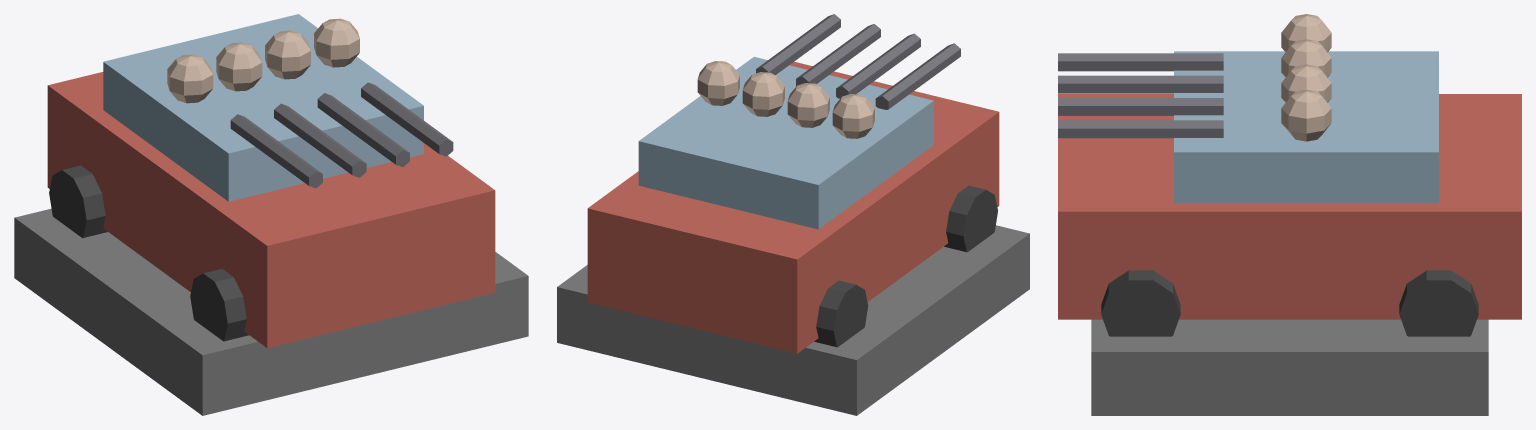
Rendered from human_monster_truck.glb.
The picture shows the model from 3 angles, left to right: view 1: azimuth 30°, elevation 25°; view 2: azimuth 150°, elevation 25°; view 3: azimuth 270°, elevation 25°; orthographic projection. The views are drawn at different scales.
Visible parts, largest first — view 1: TurretMesh, Base, GunsMesh; view 2: TurretMesh, Base, GunsMesh; view 3: TurretMesh, Base, GunsMesh.
Boxes of the visible parts, left/top/right/bottom form: TurretMesh: left=47, top=14, right=495, bottom=348; Base: left=14, top=208, right=528, bottom=415; GunsMesh: left=230, top=82, right=453, bottom=188; TurretMesh: left=587, top=56, right=999, bottom=353; Base: left=557, top=225, right=1029, bottom=415; GunsMesh: left=756, top=14, right=960, bottom=109; TurretMesh: left=1058, top=14, right=1521, bottom=336; Base: left=1091, top=319, right=1488, bottom=415; GunsMesh: left=1058, top=53, right=1223, bottom=138.
Size of the model in its own units: 1.8 by 1.39 by 2.1.
